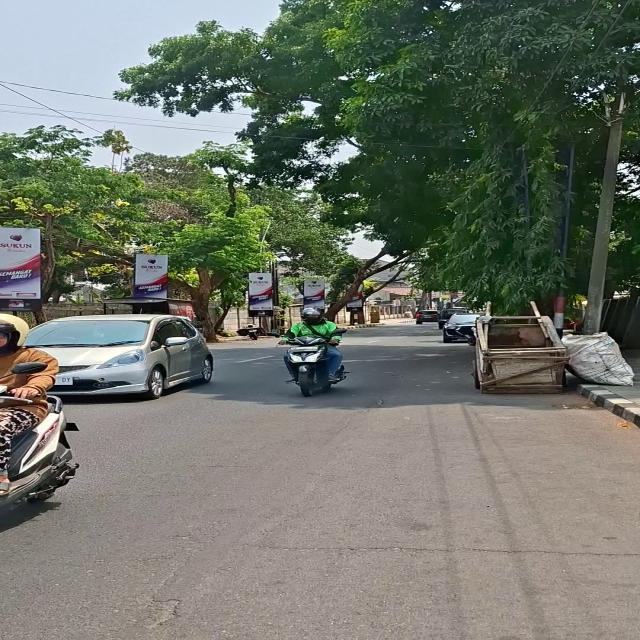WithHelmet: (0, 313, 60, 495), (278, 307, 345, 385)
